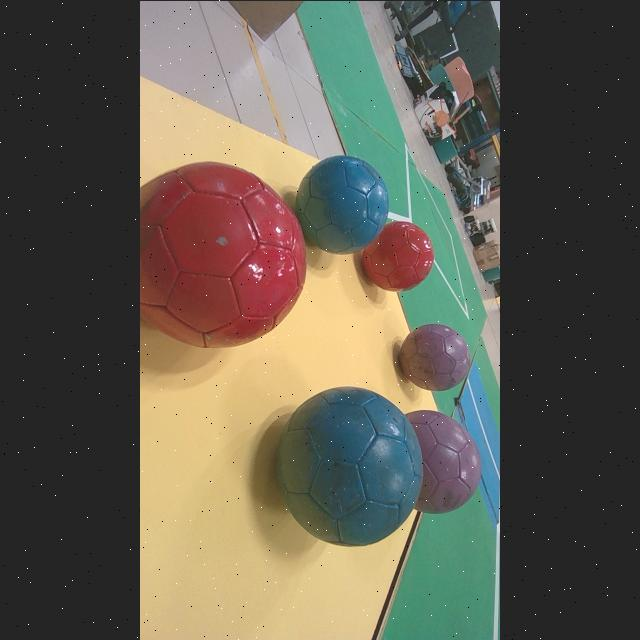B: (278, 386, 422, 545), (296, 155, 389, 252)
P: (406, 410, 481, 512), (400, 322, 470, 390)
R: (141, 161, 305, 348), (362, 220, 434, 291)
